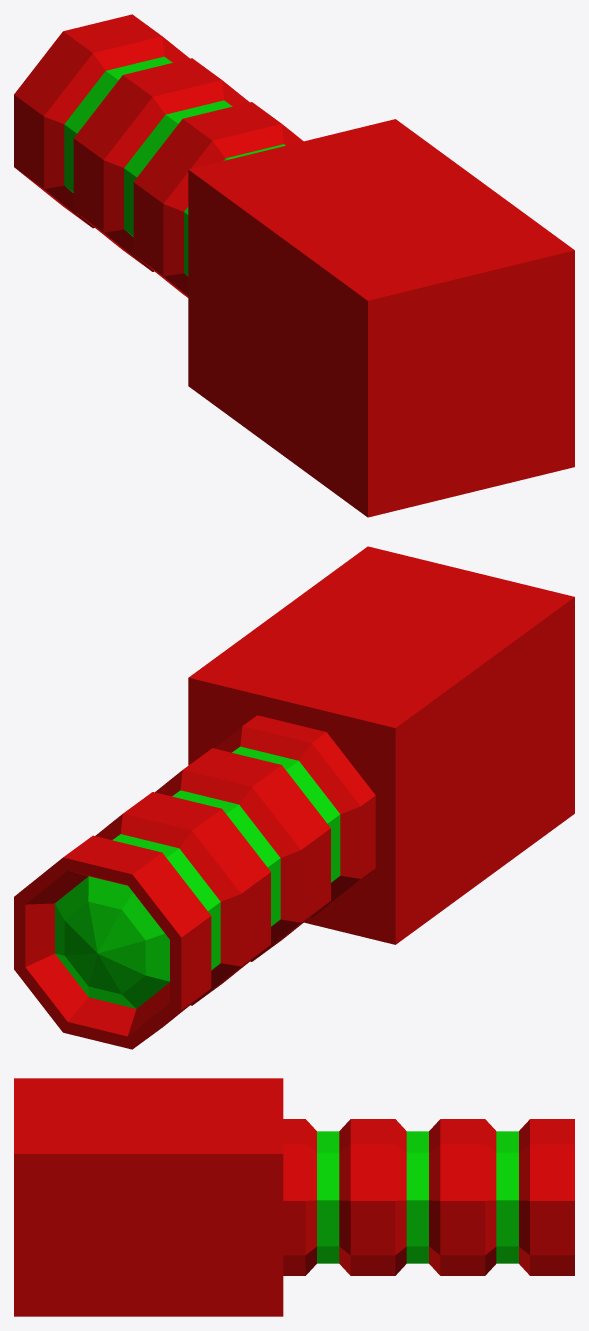
File: pulse_laser-small.glb
The picture shows the model from 3 angles, top to bottom: view 1: azimuth 30°, elevation 25°; view 2: azimuth 150°, elevation 25°; view 3: azimuth 270°, elevation 25°; orthographic projection. The views are drawn at different scales.
Parts seen in each view (by area): view 1: WeaponModel; view 2: WeaponModel; view 3: WeaponModel.
Boxes of the visible parts, x1,y1,x2,y2 form: WeaponModel: (14, 14, 574, 517); WeaponModel: (14, 546, 574, 1049); WeaponModel: (14, 1078, 574, 1316).
Bounding box in the file's own units: 0.8 × 0.8 × 2.5.
